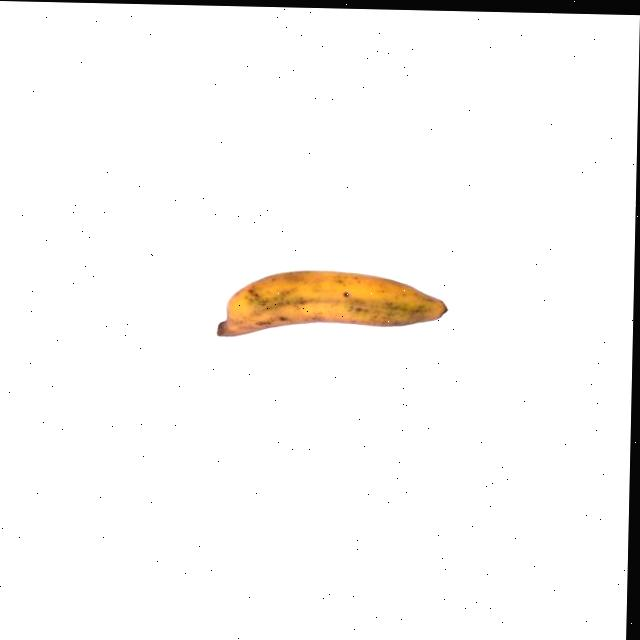banana: (211, 265, 451, 343)
